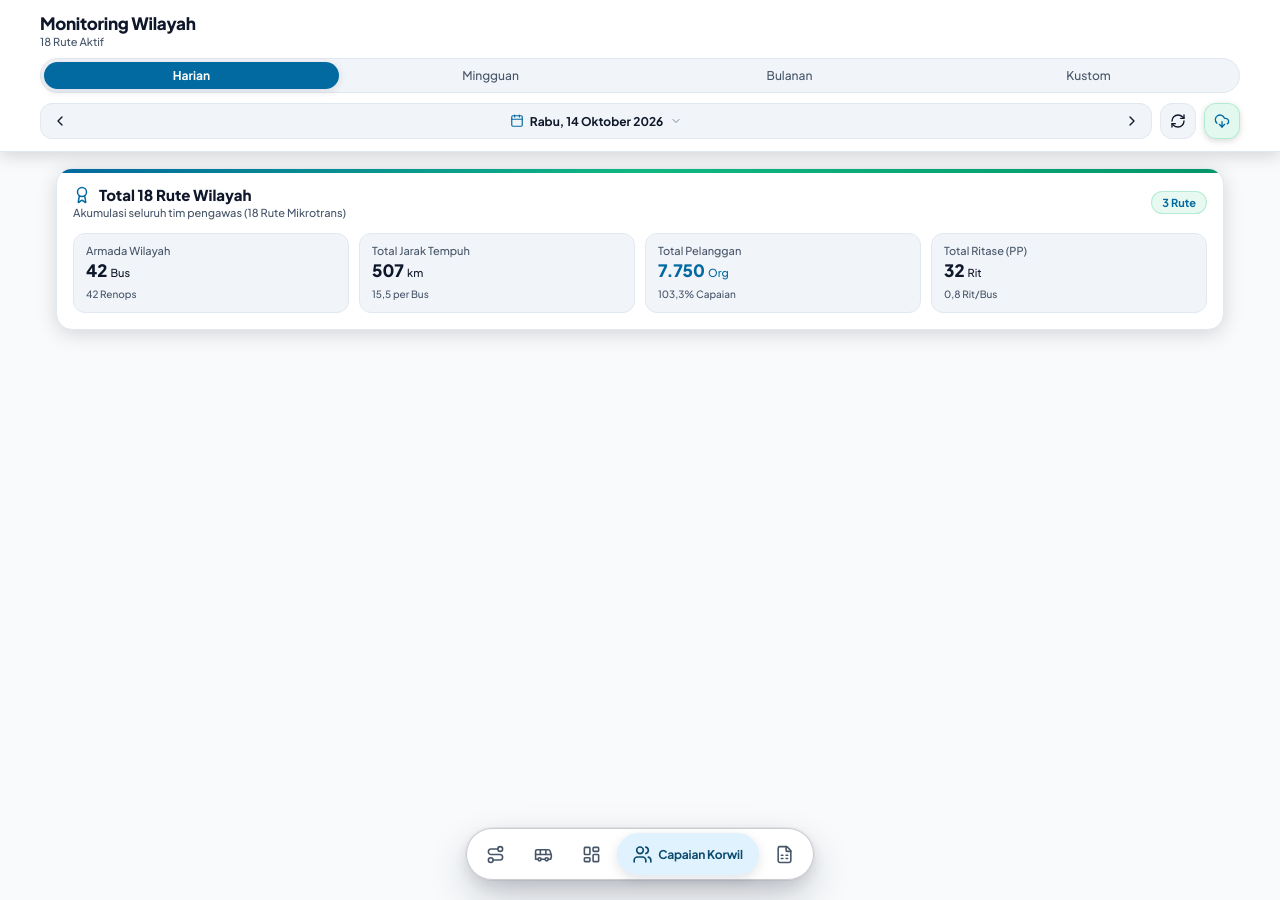
Test: AllRouteMonitoringPage Component › opens MonthlySyncModal when sync button is clicked in monthly period mode
Step 1. Click the button with test id "period-btn-monthly" → (790, 76), box [642,62,937,89]
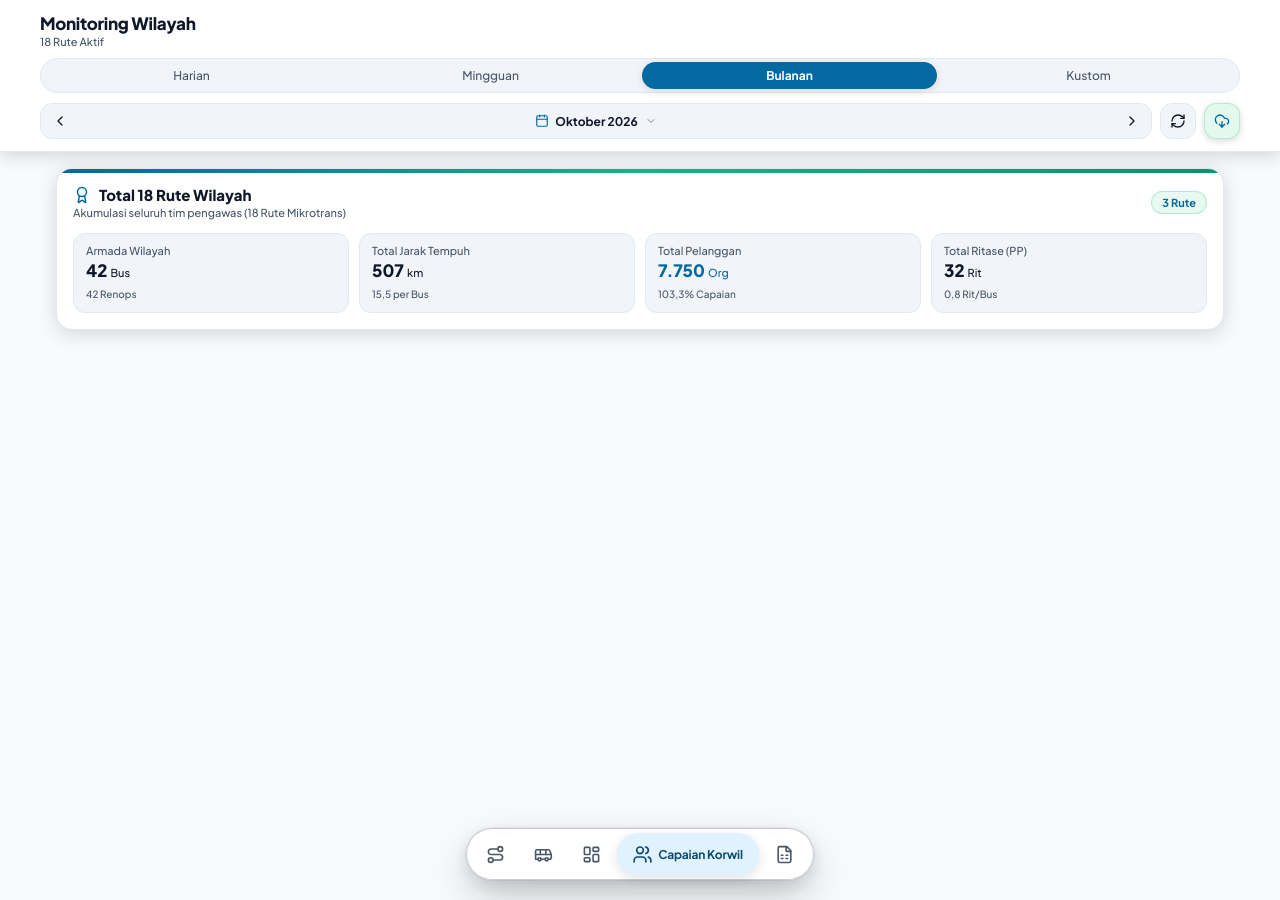
# Click sync button
Step 2. Click the button with test id "monitoring-load-all-btn" → (1222, 121), box [1204,103,1240,139]
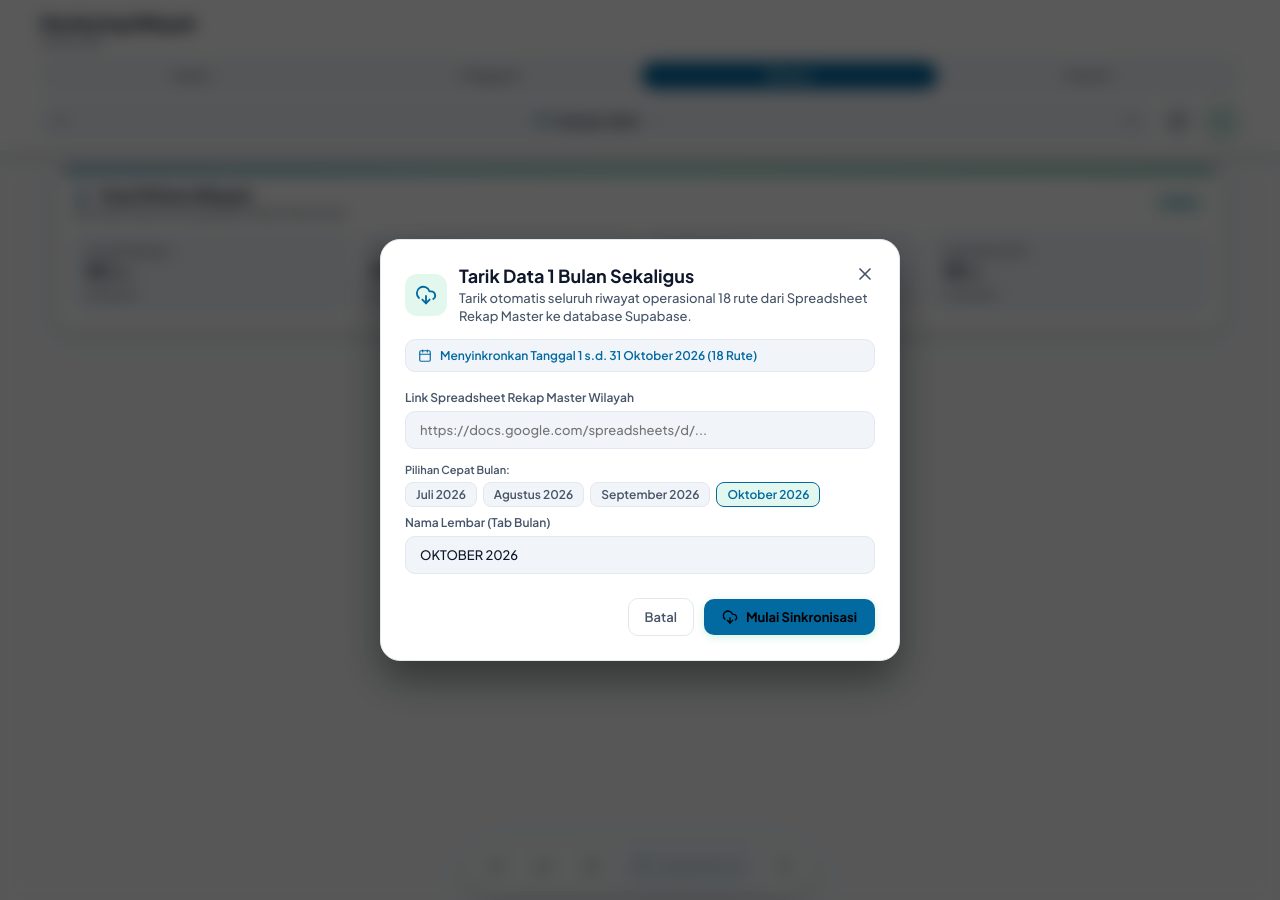
Check: the dialog is shown
Check: the dialog shows "Tarik Data 1 Bulan Sekaligus", box [459,264,694,287]
